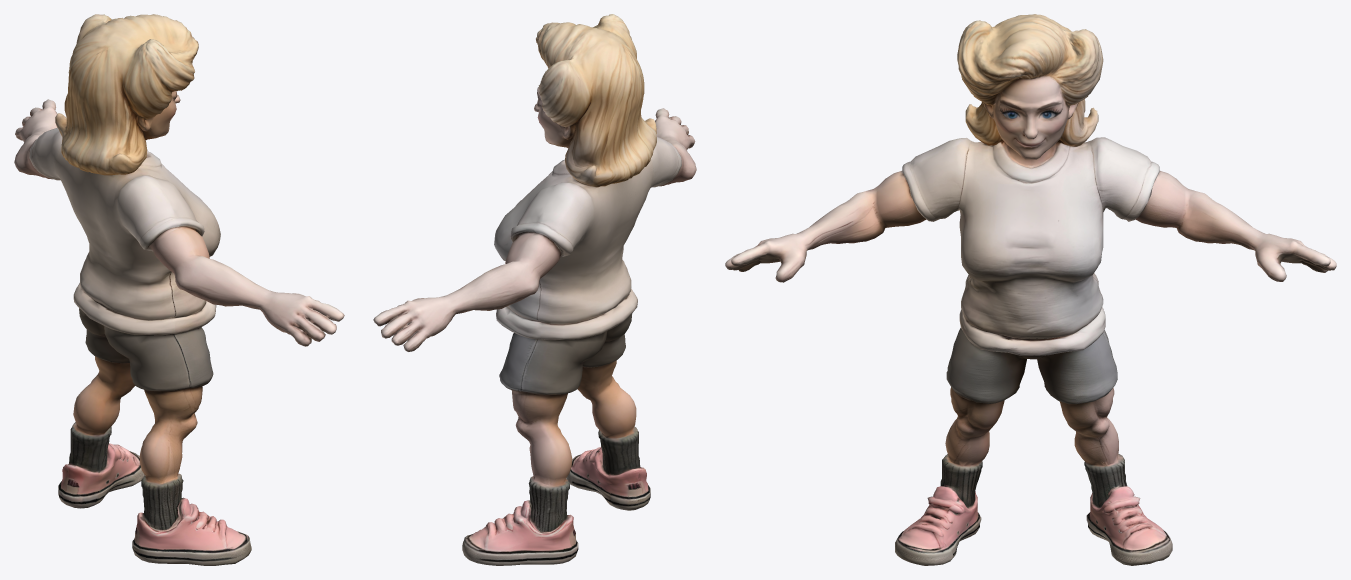
3 views of the same model, side by side, from view 1: azimuth 30°, elevation 25°; view 2: azimuth 150°, elevation 25°; view 3: azimuth 270°, elevation 25° (orthographic). The views are drawn at different scales.
Visible parts, largest first — view 1: tripo_node_9013ccd5; view 2: tripo_node_9013ccd5; view 3: tripo_node_9013ccd5.
Boxes of the visible parts, x1=… form: tripo_node_9013ccd5: x1=14, y1=14, x2=344, y2=565; tripo_node_9013ccd5: x1=373, y1=14, x2=696, y2=565; tripo_node_9013ccd5: x1=725, y1=14, x2=1336, y2=565.
Bounding box in the file's own units: 0.2622 × 0.9295 × 1.
Materials: 1 (1 with a texture image).
